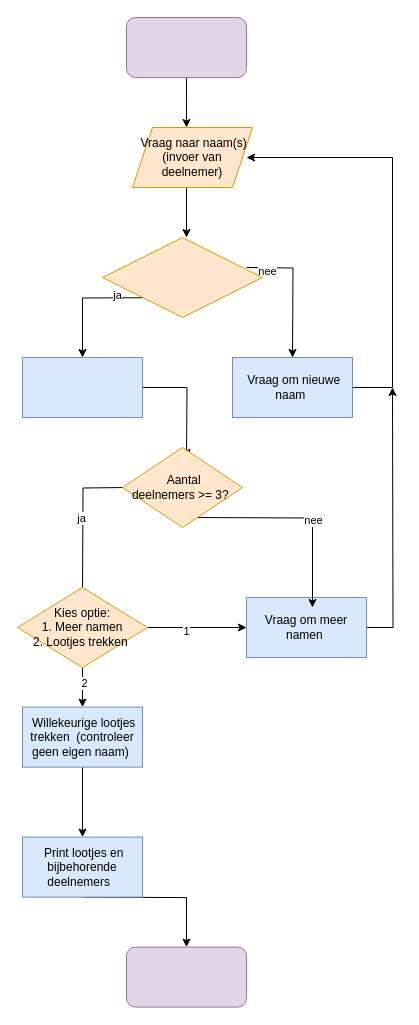
This 419x1025 diagram has some shape labels left out. The shapes that lost their labels are listed below. From the top down, each one's centre as x and y in pixels, then its label:
At point 186,47: "start".
At point 182,277: "Is de naam uniek?".
At point 82,387: "Voeg naam toe aan lijst".
At point 186,976: "end".
